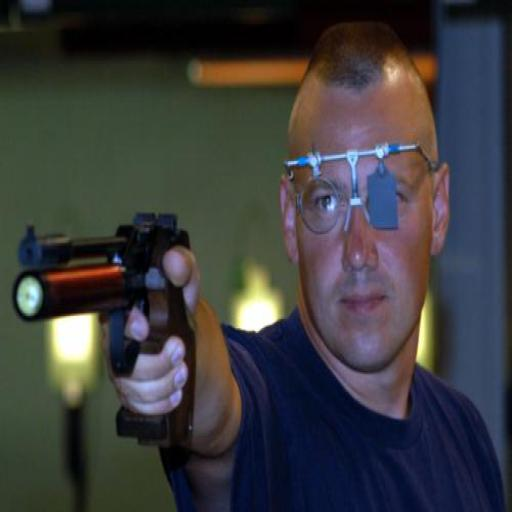shooting: (98, 18, 511, 510)
